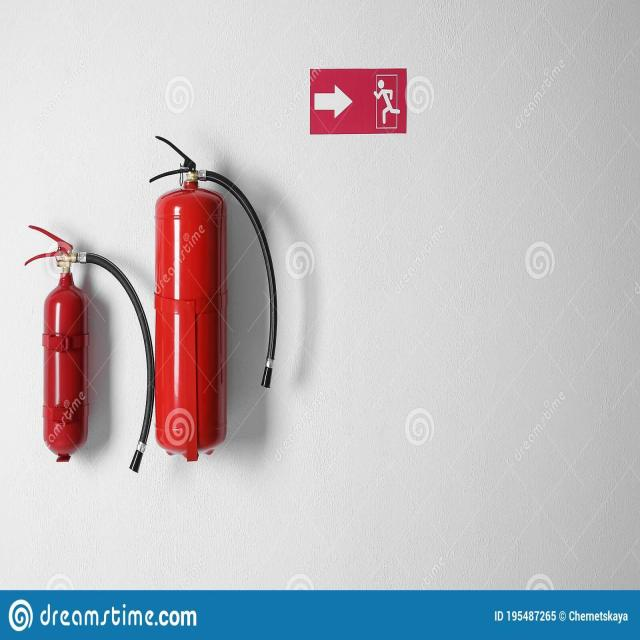fire_extinguisher: (146, 132, 283, 462), (19, 219, 157, 481)
